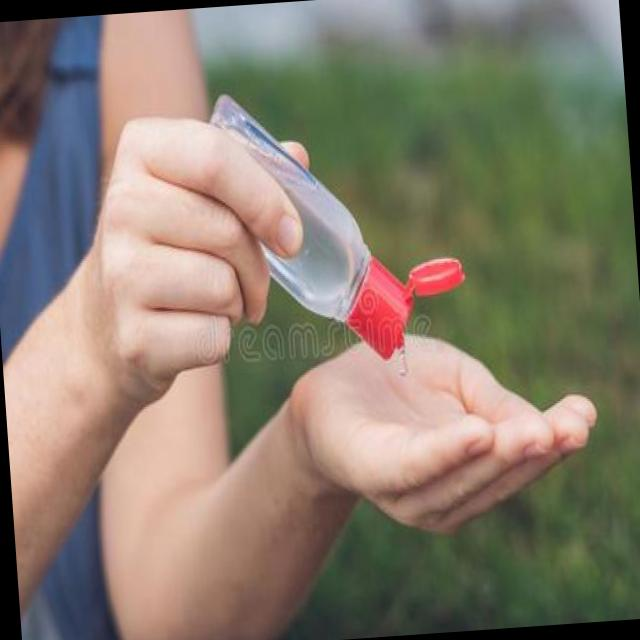handsanitizer: (204, 80, 469, 362)
